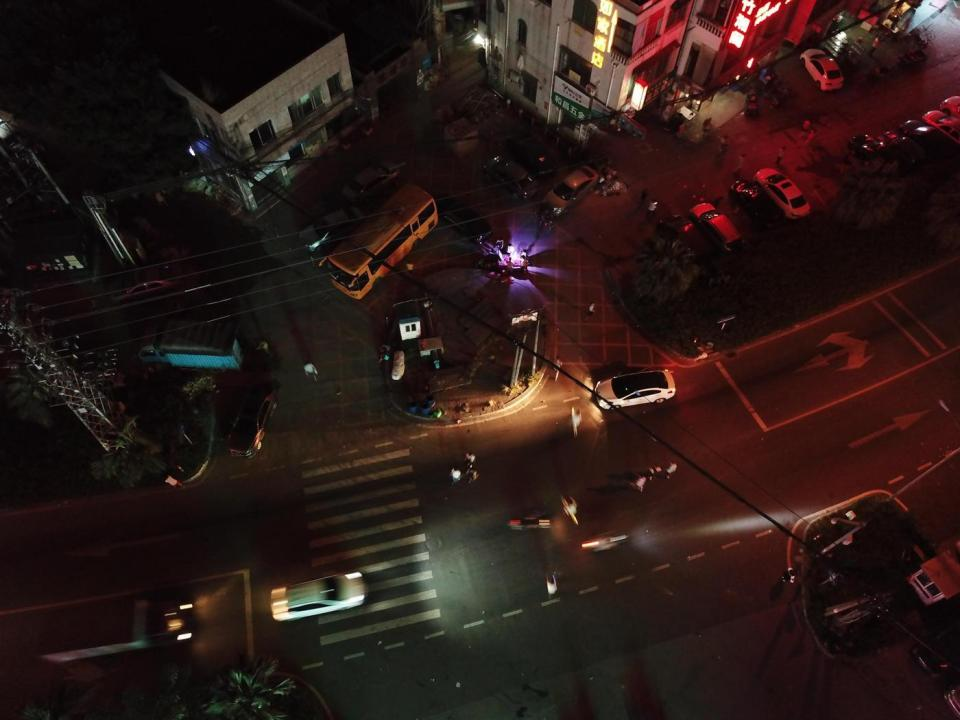bus: (318, 181, 439, 300)
car: (269, 572, 367, 623), (226, 381, 278, 458), (107, 257, 184, 308), (594, 368, 677, 410), (428, 194, 494, 245), (538, 164, 601, 217), (876, 128, 942, 178), (752, 166, 812, 221), (340, 156, 407, 205), (299, 206, 368, 253), (656, 212, 715, 266), (687, 202, 747, 253), (505, 128, 560, 180), (481, 154, 540, 201), (896, 118, 958, 162), (847, 133, 906, 179), (730, 180, 779, 227), (799, 49, 845, 92), (920, 109, 960, 147), (377, 343, 390, 366)
truck: (39, 596, 196, 670), (138, 318, 247, 374)
